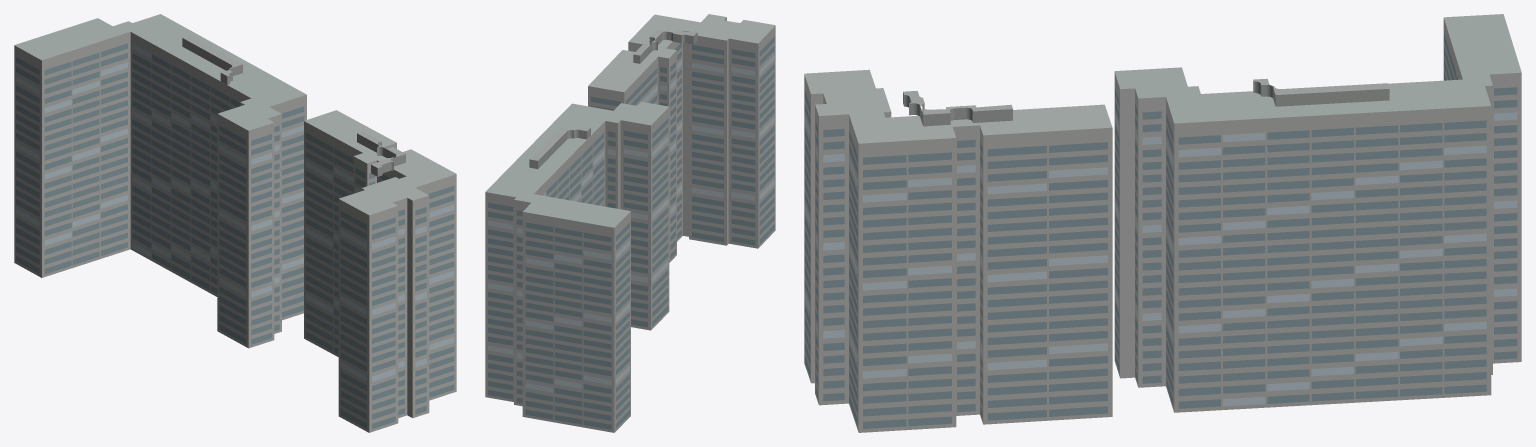
File: apt-a13082501.glb
3 views of the same model, side by side, from view 1: azimuth 30°, elevation 25°; view 2: azimuth 150°, elevation 25°; view 3: azimuth 270°, elevation 25° (orthographic). The views are drawn at different scales.
Visible parts, largest first — view 1: apt-a13082501; view 2: apt-a13082501; view 3: apt-a13082501.
Boxes of the visible parts, left/top/right/bottom form: apt-a13082501: left=14, top=14, right=456, bottom=432; apt-a13082501: left=485, top=14, right=775, bottom=432; apt-a13082501: left=804, top=14, right=1521, bottom=432.
Size of the model in its own units: 57.32 by 62 by 134.
